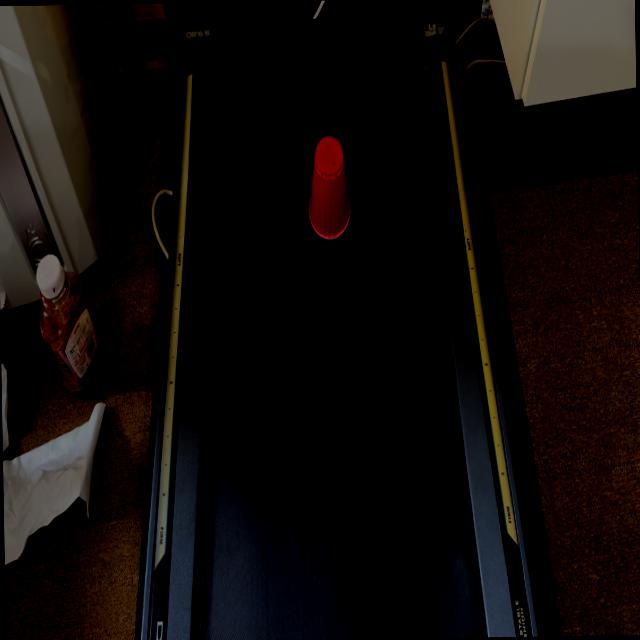Recycle: (306, 132, 350, 241)
